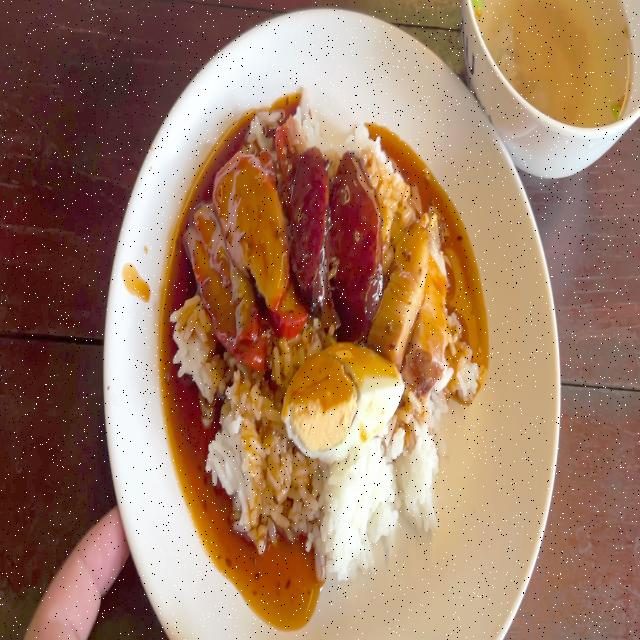boiled_egg: (286, 347, 407, 466)
chainese_sausage: (297, 150, 375, 327), (336, 165, 374, 318), (293, 148, 328, 291)
crispy_pork: (382, 215, 450, 377), (382, 219, 426, 349), (418, 214, 448, 374)
red_pork: (183, 152, 296, 356), (222, 168, 299, 297), (189, 209, 251, 345)
red_pork_and_crispy_pork: (172, 98, 480, 584)
rice: (191, 373, 291, 538), (299, 462, 399, 575), (400, 410, 446, 520), (174, 298, 214, 385)
